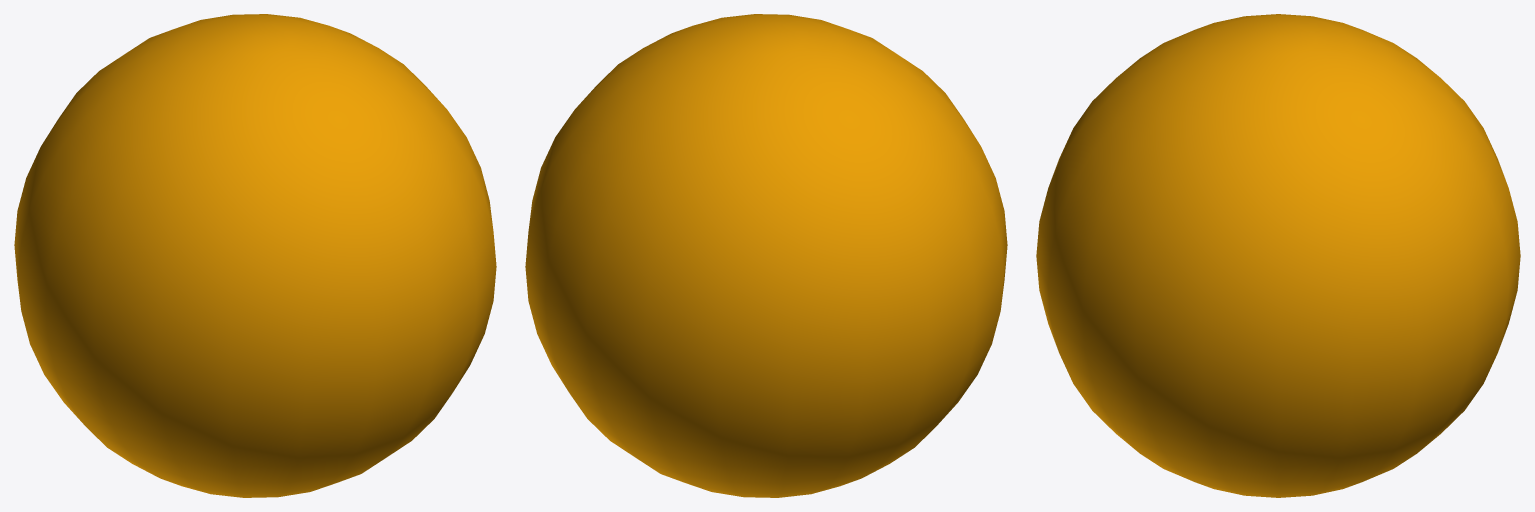
The model's file is Cell Environment.fbx.
3 renders of one model, left to right at view 1: azimuth 30°, elevation 25°; view 2: azimuth 150°, elevation 25°; view 3: azimuth 270°, elevation 25°, orthographic.
Parts seen in each view (by area): view 1: pSphere3; view 2: pSphere3; view 3: pSphere3.
Boxes of the visible parts, x1,y1,x2,y2 form: pSphere3: (14, 14, 496, 497); pSphere3: (525, 14, 1007, 497); pSphere3: (1036, 14, 1520, 497).
Size of the model in its own units: 171 by 171 by 171.
